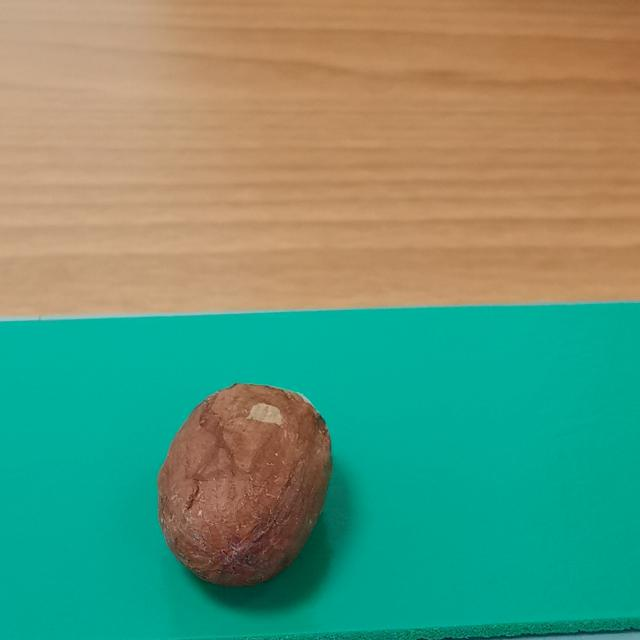Fine_cocoabeans: (105, 357, 402, 640)
